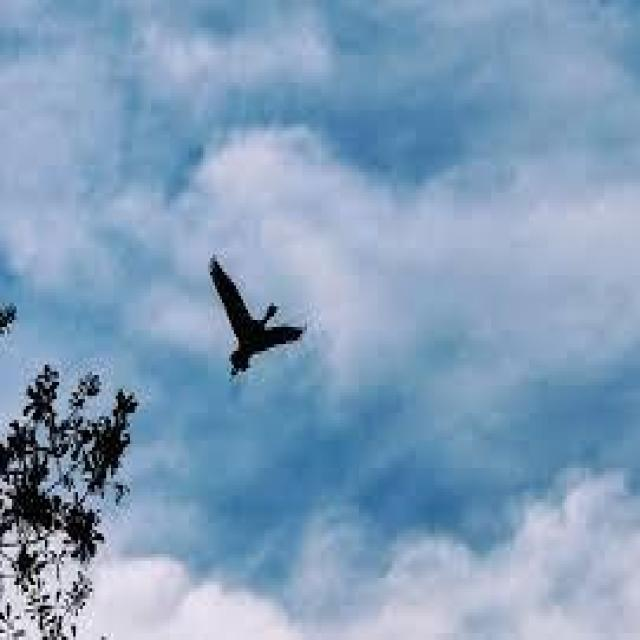bird: (208, 255, 306, 382)
